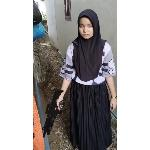Senapan: (40, 87, 68, 138)
